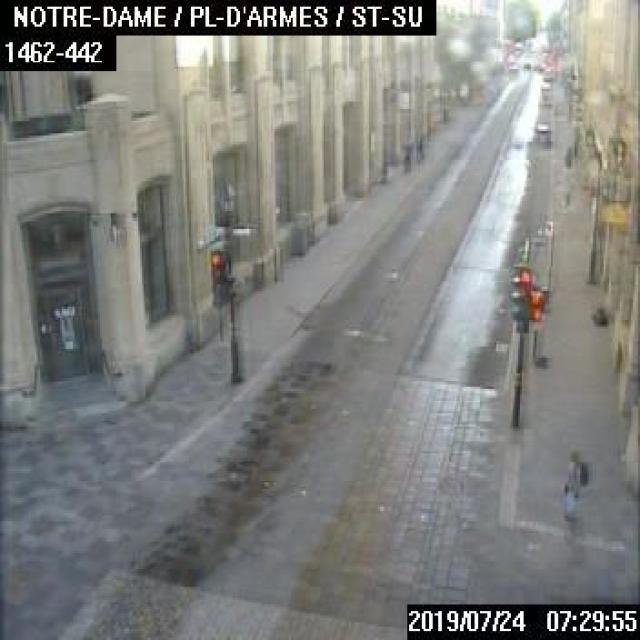pedestrian: (562, 449, 587, 527), (400, 134, 412, 174), (413, 128, 423, 161), (562, 144, 571, 167)
vehicle: (533, 122, 549, 142), (538, 87, 553, 107)
